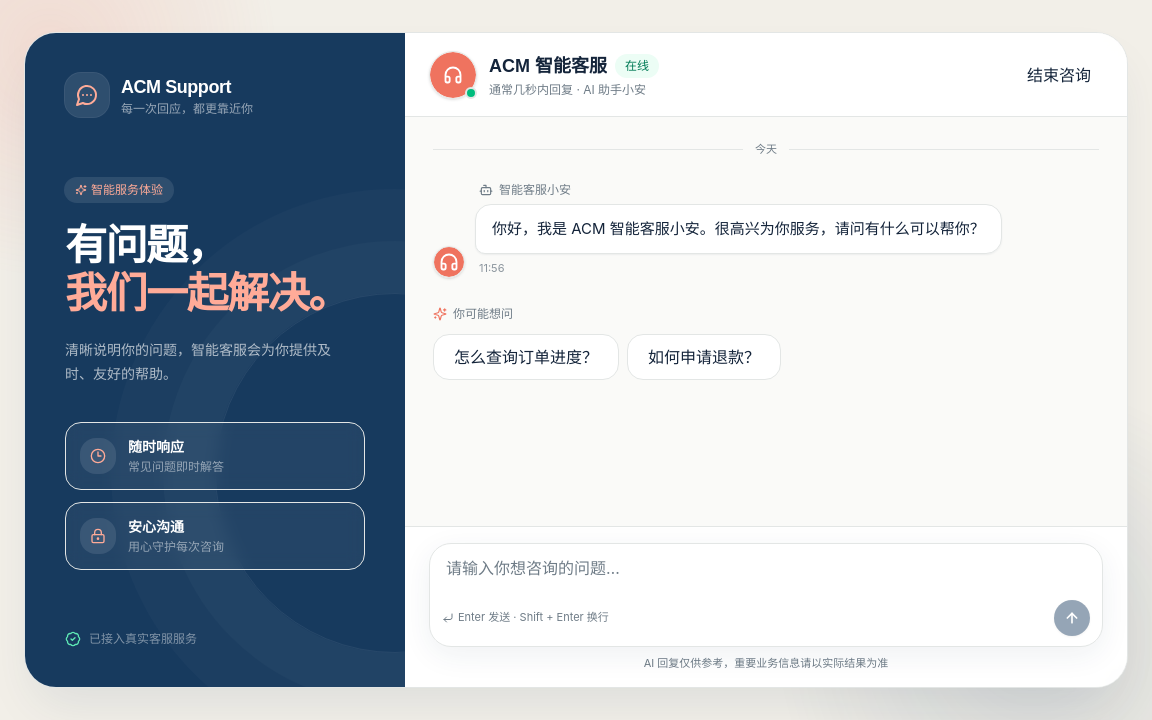
Test: App › creates a conversation, lists quick questions and completes a real message round-trip
The image size is (1152, 720).
Click the button "怎么查询订单进度？". click: (526, 356)
box: [433,334,619,380]
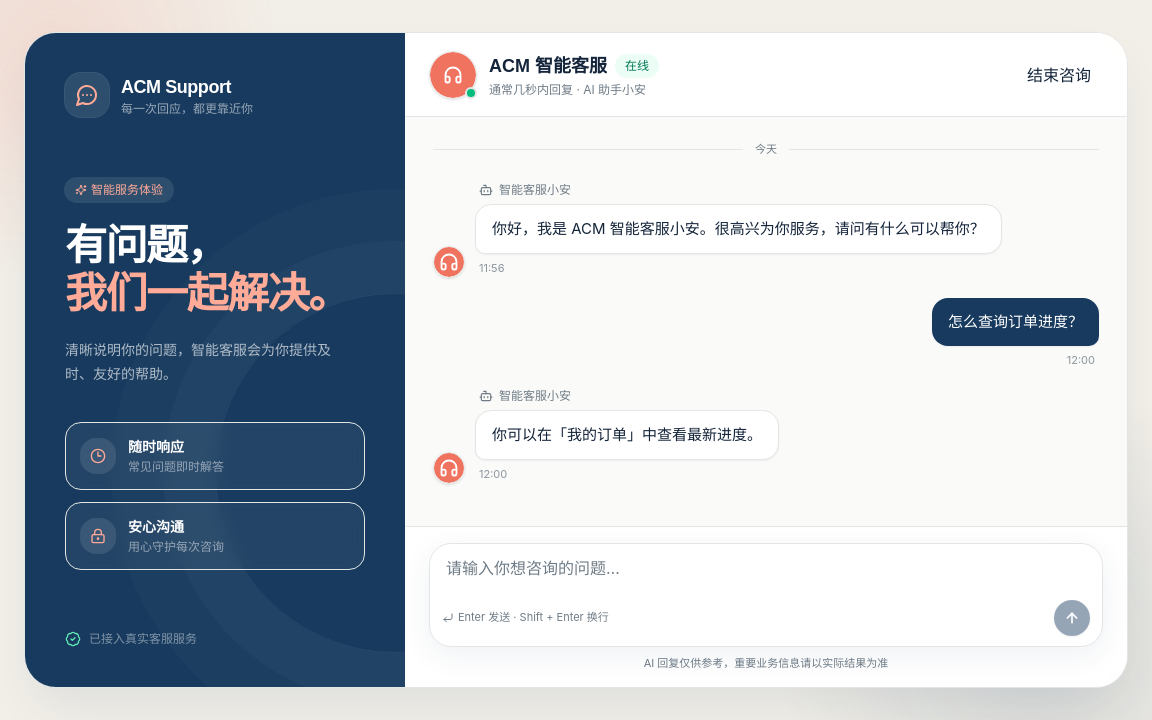
Now the text "你可以在「我的订单」中查看最新进度。" is shown, box [492,423,762,447]
